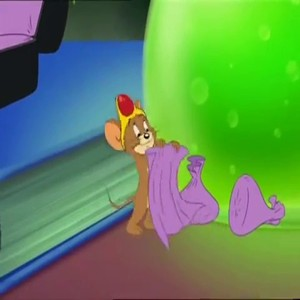Jerry: (104, 92, 176, 238)
